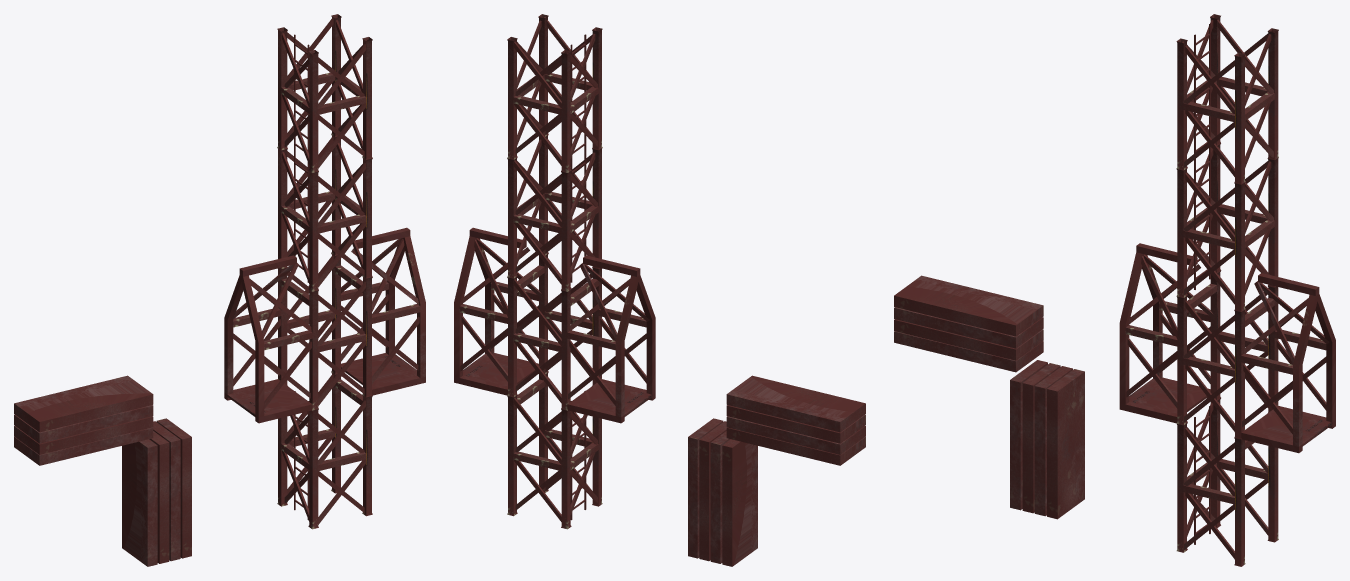
The model's file is CS_crane_02.FBX.
3 views of the same model, side by side, from view 1: azimuth 30°, elevation 25°; view 2: azimuth 150°, elevation 25°; view 3: azimuth 330°, elevation 25° (orthographic). The views are drawn at different scales.
Parts seen in each view (by area): view 1: SM_crane_02; view 2: SM_crane_02; view 3: SM_crane_02.
Part boxes in pixels (x1,y1,x2,y2): SM_crane_02: (14, 14, 425, 566); SM_crane_02: (454, 14, 865, 566); SM_crane_02: (894, 14, 1335, 566).
Bounding box in the file's own units: 993 × 158 × 1185.
